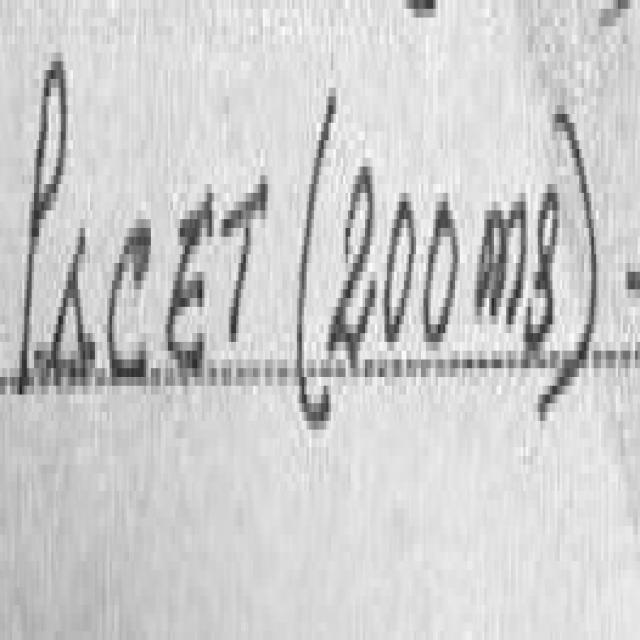0: (426, 202, 460, 342), (387, 193, 416, 338)
2: (328, 154, 380, 363)
A: (51, 228, 95, 386)
C: (107, 219, 151, 392)
E: (168, 193, 210, 373)
P: (19, 61, 66, 390)
T: (221, 177, 268, 338)
g: (528, 193, 558, 346)
m: (477, 195, 528, 320)
